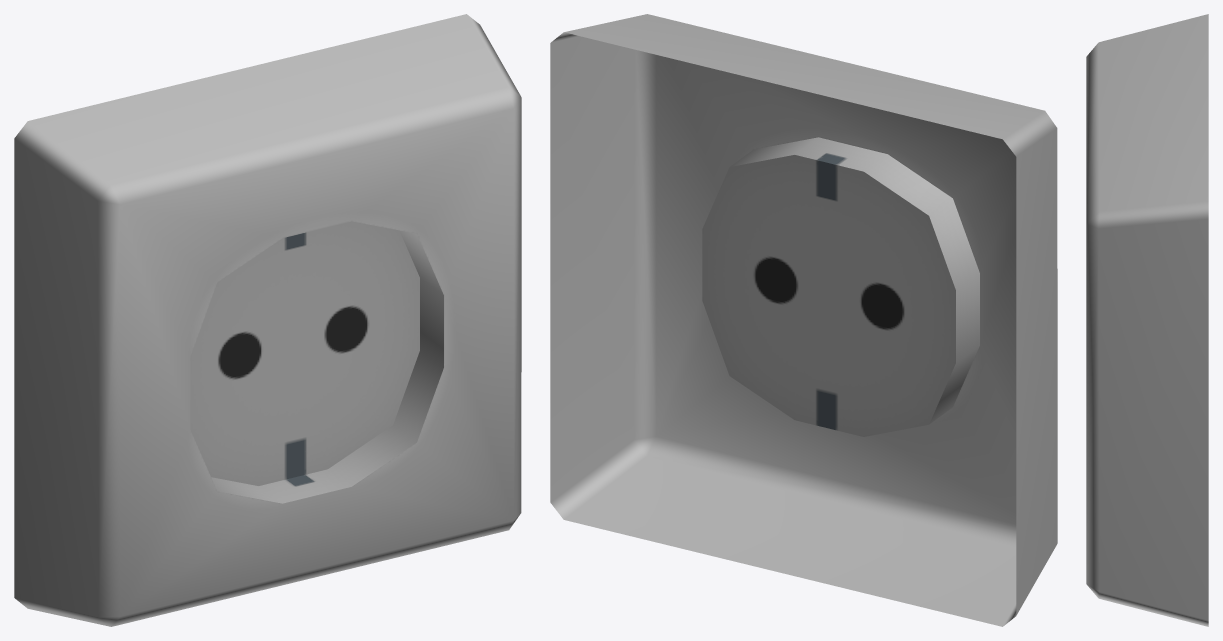
File: StopContact.fbx
3 renders of one model, left to right at view 1: azimuth 30°, elevation 25°; view 2: azimuth 150°, elevation 25°; view 3: azimuth 270°, elevation 25°, orthographic. The views are drawn at different scales.
Parts seen in each view (by area): view 1: StopContact; view 2: StopContact; view 3: StopContact.
Part boxes in pixels (bbox=[...]): StopContact: bbox=[14, 14, 521, 626]; StopContact: bbox=[550, 14, 1057, 626]; StopContact: bbox=[1086, 14, 1208, 626].
Size of the model in its own units: 10.69 by 10.69 by 2.78.
1 material, 1 textured.
